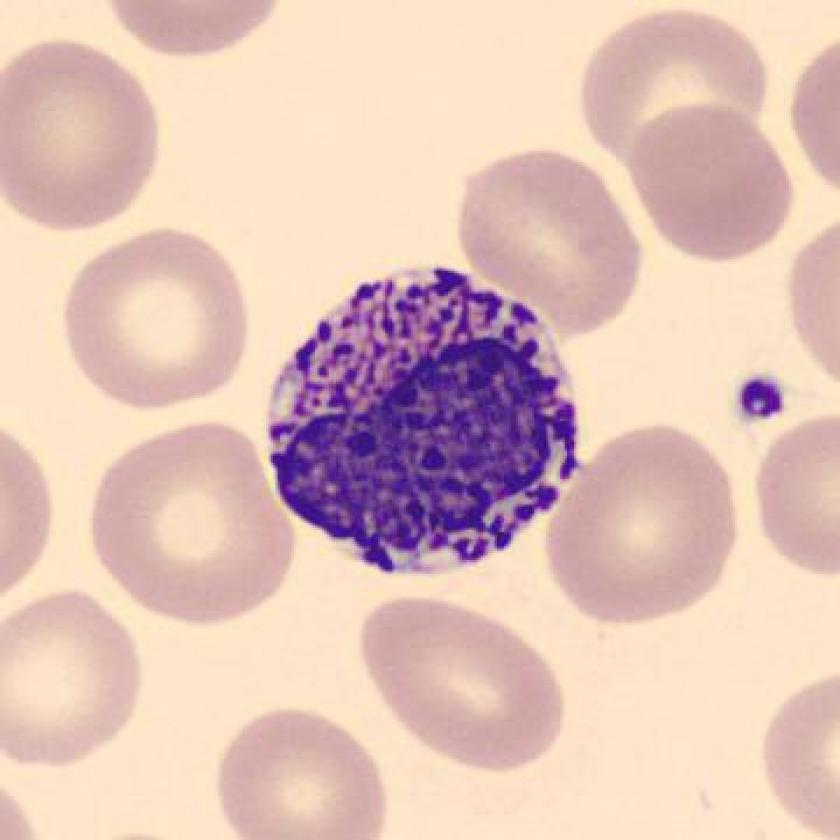basophil: (260, 251, 594, 582)
